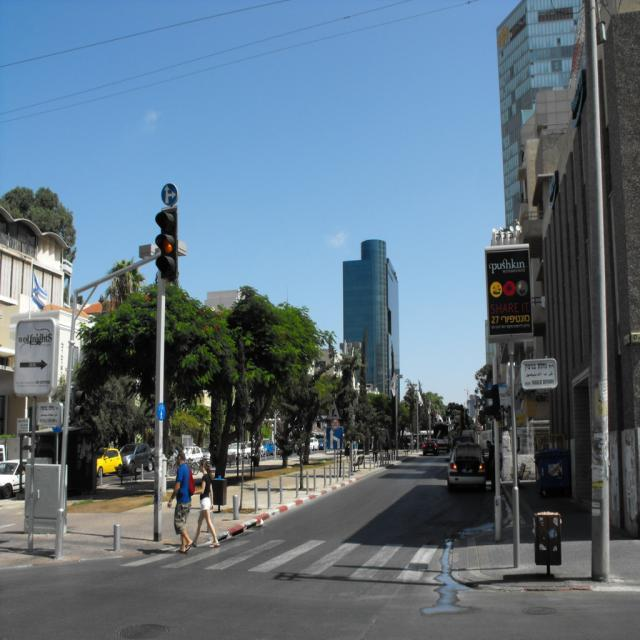traffic light: (157, 206, 180, 276)
